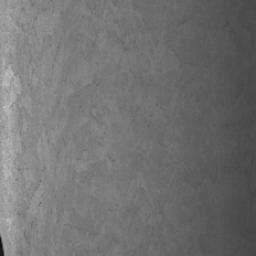Silk spot: (0, 0, 179, 256), (168, 0, 250, 48), (223, 83, 256, 177), (180, 160, 216, 217), (106, 226, 136, 256), (175, 77, 209, 102), (188, 235, 210, 254), (128, 154, 144, 169), (240, 228, 256, 237), (0, 233, 4, 256)
